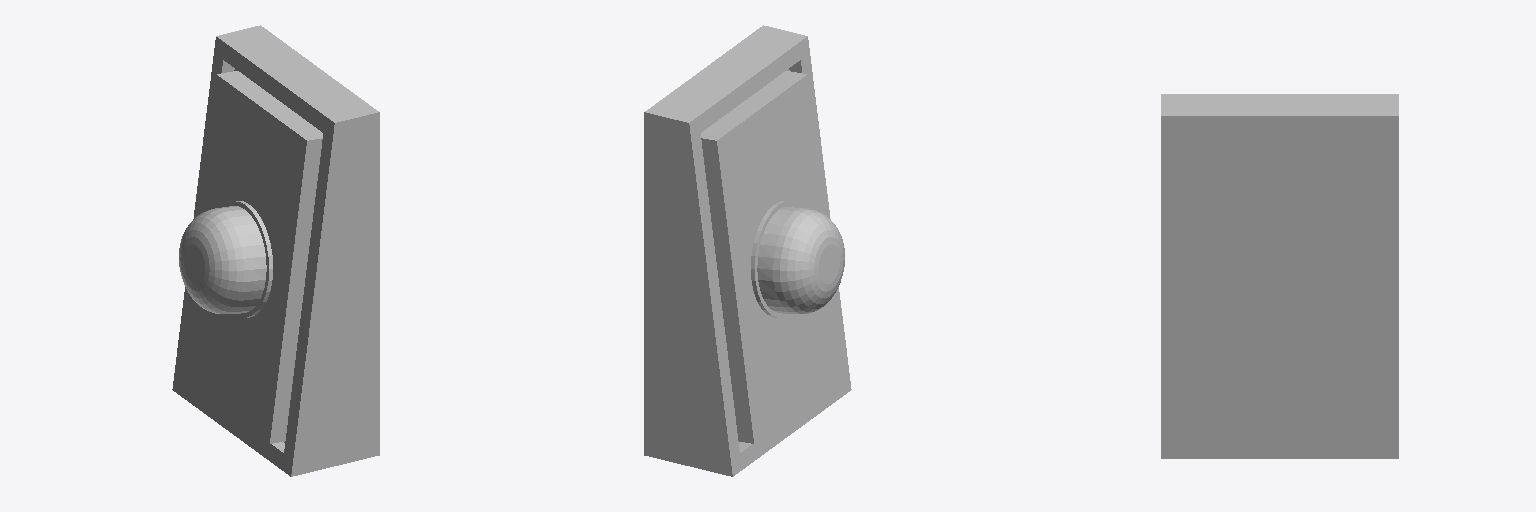
The model's file is DoorOpenLight.obj.
3 renders of one model, left to right at view 1: azimuth 30°, elevation 25°; view 2: azimuth 150°, elevation 25°; view 3: azimuth 270°, elevation 25°, orthographic.
Parts seen in each view (by area): view 1: Cube; view 2: Cube; view 3: Cube.
Part boxes in pixels (bbox=[...]): Cube: bbox=[172, 25, 379, 476]; Cube: bbox=[644, 25, 851, 476]; Cube: bbox=[1161, 94, 1398, 458].
Size of the model in its own units: 0.3202 by 0.8194 by 0.514.